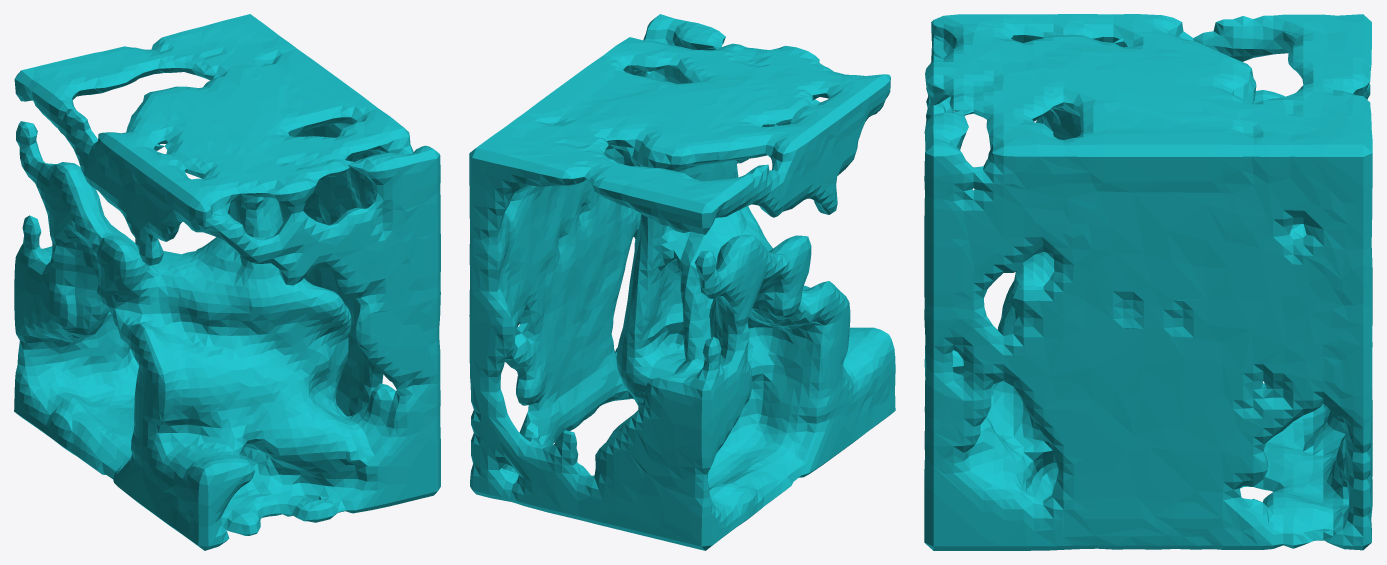
The picture shows the model from 3 angles, left to right: view 1: azimuth 30°, elevation 25°; view 2: azimuth 150°, elevation 25°; view 3: azimuth 270°, elevation 25°; orthographic projection. The views are drawn at different scales.
Visible parts, largest first — view 1: Liquid_Domain; view 2: Liquid_Domain; view 3: Liquid_Domain.
Boxes of the visible parts, x1,y1,x2,y2 form: Liquid_Domain: (14,14,440,550); Liquid_Domain: (469,14,895,550); Liquid_Domain: (924,14,1372,550).
Bounding box in the file's own units: 79.14 × 108 × 108.
